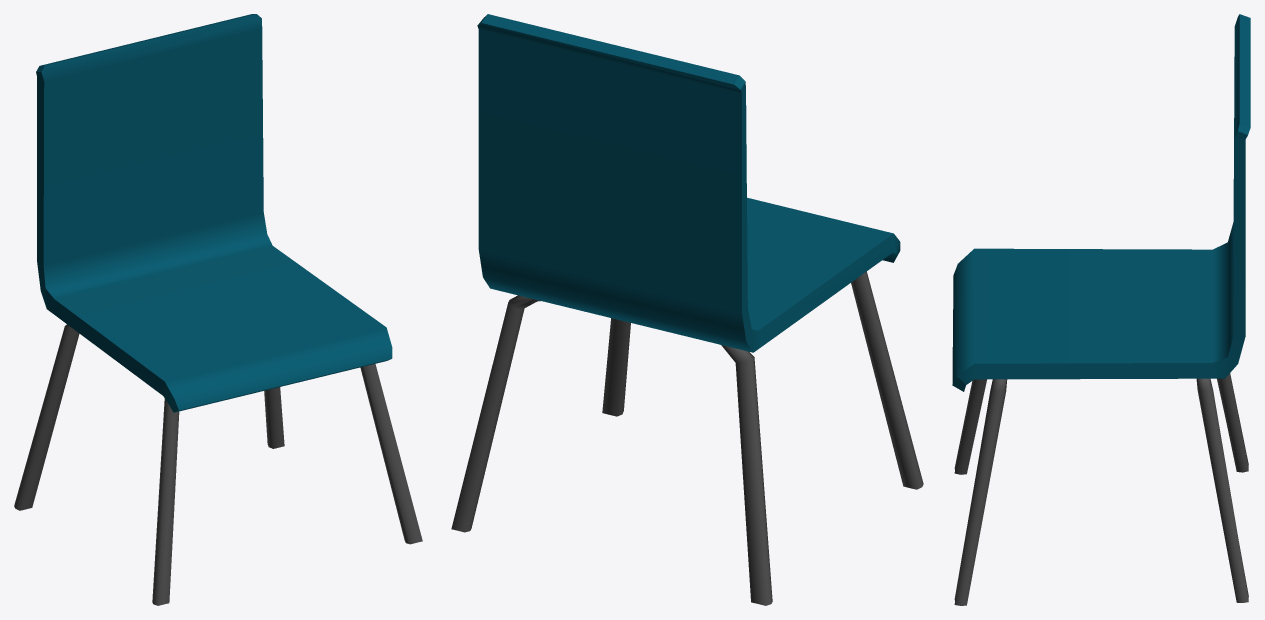
Rendered from SM_Chair_02.fbx.
3 renders of one model, left to right at view 1: azimuth 30°, elevation 25°; view 2: azimuth 150°, elevation 25°; view 3: azimuth 270°, elevation 25°, orthographic. The views are drawn at different scales.
Parts seen in each view (by area): view 1: SM_Chair_02; view 2: SM_Chair_02; view 3: SM_Chair_02.
Part boxes in pixels (box(x1,y1,x2,y2)): SM_Chair_02: box(14, 14, 422, 605); SM_Chair_02: box(451, 14, 923, 605); SM_Chair_02: box(952, 14, 1250, 605).
Bounding box in the file's own units: 65.05 × 99.69 × 57.7.
